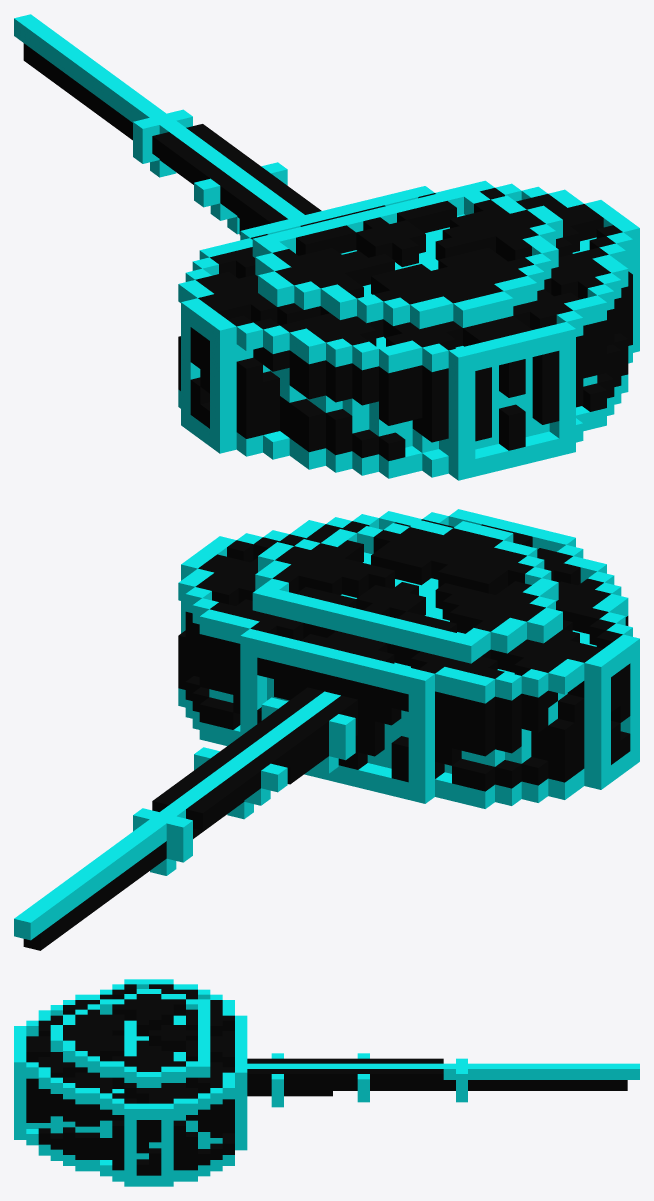
File: HeavyLaserTurret.FBX
3 renders of one model, top to bottom at view 1: azimuth 30°, elevation 25°; view 2: azimuth 150°, elevation 25°; view 3: azimuth 270°, elevation 25°, orthographic. The views are drawn at different scales.
Visible parts, largest first — view 1: HeavyLaserTurret; view 2: HeavyLaserTurret; view 3: HeavyLaserTurret.
Boxes of the visible parts, box(x1,y1,x2,y2) form: HeavyLaserTurret: box(14, 14, 639, 480); HeavyLaserTurret: box(14, 509, 639, 950); HeavyLaserTurret: box(14, 979, 639, 1186).
Bounding box in the file's own units: 25 × 51 × 8.
